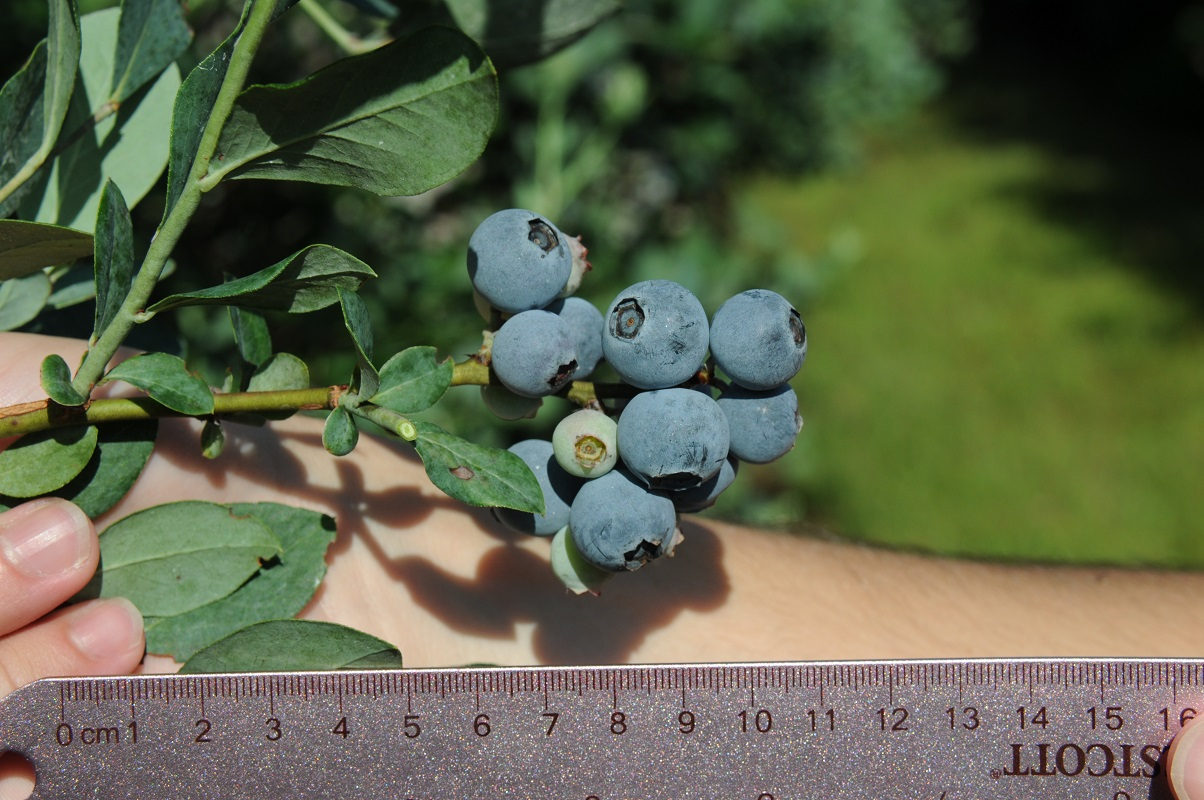Immature: (553, 409, 621, 479), (551, 522, 612, 598), (555, 232, 594, 299), (473, 287, 518, 328), (658, 512, 686, 559)
Mature: (569, 457, 677, 575), (602, 279, 709, 391), (618, 388, 730, 492), (466, 209, 573, 313), (489, 438, 597, 537), (710, 288, 807, 391), (491, 310, 579, 398), (715, 381, 803, 465), (542, 297, 606, 381), (668, 454, 739, 512), (479, 385, 544, 421)
